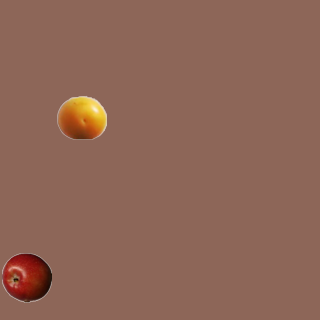Apple Braeburn: (1, 252, 51, 302)
Cherry Wax Yellow: (56, 92, 106, 142)
